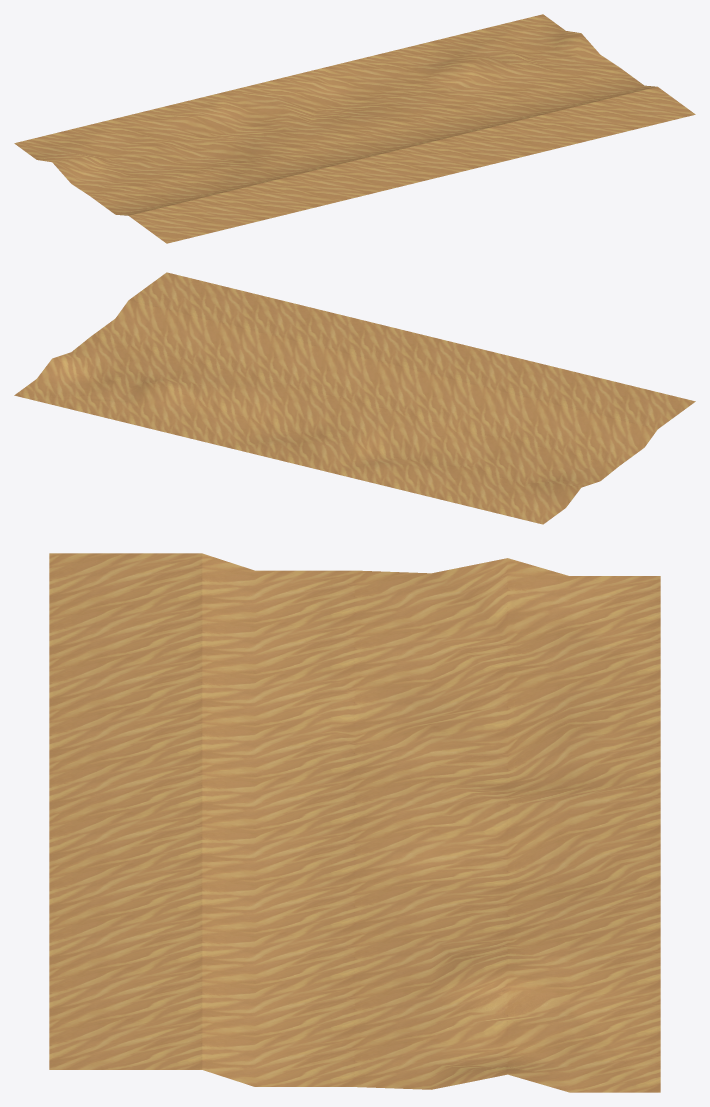
The model's file is S0_Floor_Front.FBX.
The picture shows the model from 3 angles, top to bottom: view 1: azimuth 30°, elevation 25°; view 2: azimuth 150°, elevation 25°; view 3: azimuth 270°, elevation 25°; orthographic projection. The views are drawn at different scales.
Visible parts, largest first — view 1: S0_Floor_Front; view 2: S0_Floor_Front; view 3: S0_Floor_Front.
Boxes of the visible parts, <box> form: S0_Floor_Front: <box>14,14,695,243</box>; S0_Floor_Front: <box>14,272,695,524</box>; S0_Floor_Front: <box>49,553,660,1092</box>.
Size of the model in its own units: 80000 by 40000 by 2576.
1 material, 1 textured.
